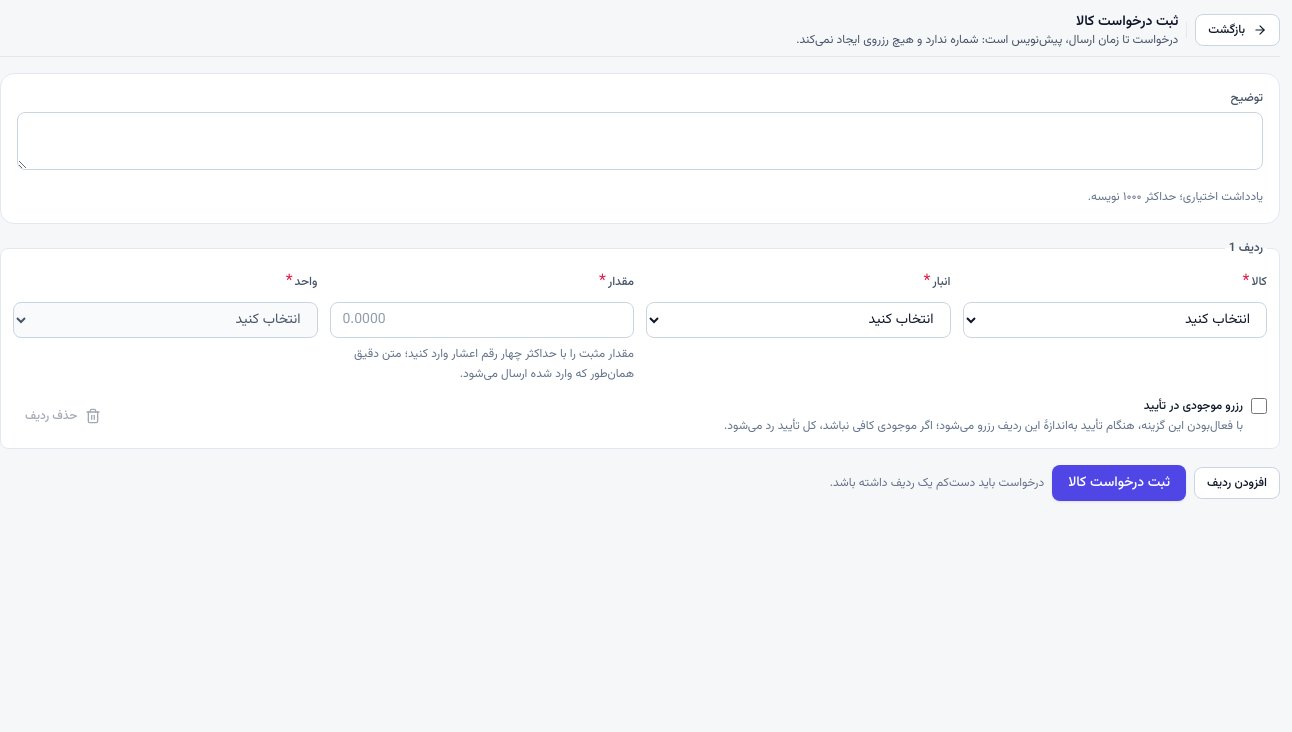
Scenario: material request create form › rejects an empty quantity and an empty line before sending a request
The image size is (1292, 732).
Expected: the element with test id "material-request-line-0" is shown, [0,240,1280,449]
Click the button "ثبت درخواست کالا" at point(1119, 483), box [1052,465,1186,501]
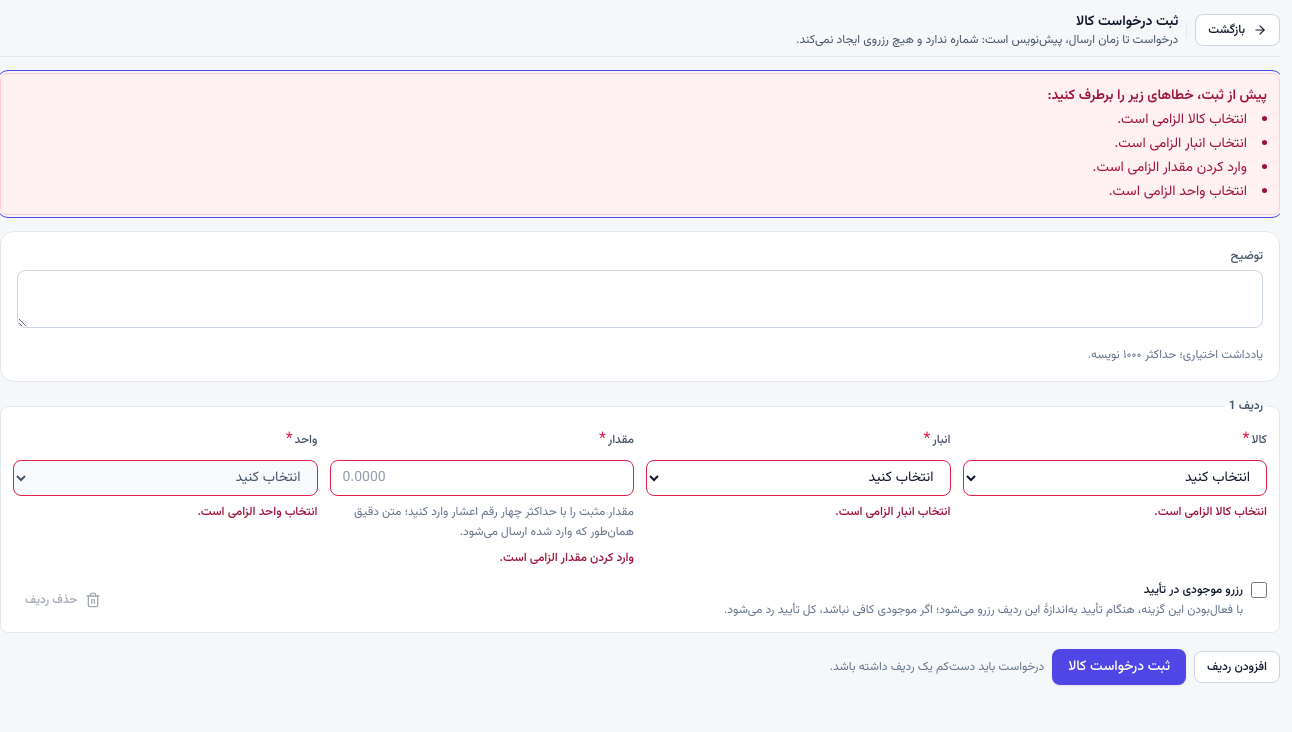
Expected: the message with test id "material-request-error-summary" shows "انتخاب کالا الزامی است.", [1117,109,1247,131]
